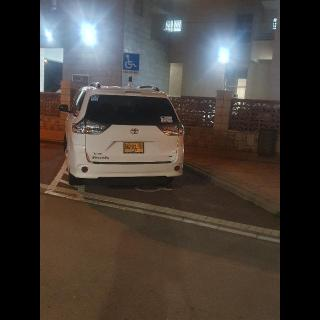LicensePlate: (125, 143, 143, 149)
